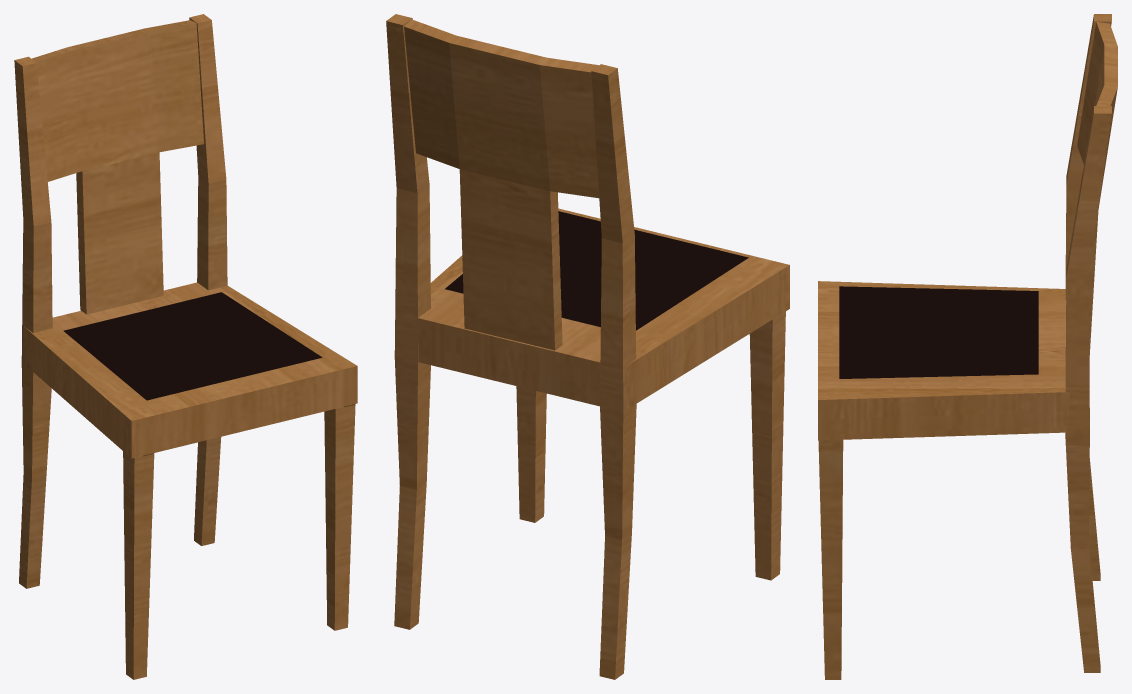
File: chair_00.obj
3 views of the same model, side by side, from view 1: azimuth 30°, elevation 25°; view 2: azimuth 150°, elevation 25°; view 3: azimuth 270°, elevation 25° (orthographic). The views are drawn at different scales.
Parts seen in each view (by area): view 1: Cube_Cube.001; view 2: Cube_Cube.001; view 3: Cube_Cube.001.
Part boxes in pixels (x1,y1,x2,y2): Cube_Cube.001: (14, 14, 357, 679); Cube_Cube.001: (386, 14, 789, 679); Cube_Cube.001: (818, 14, 1117, 679).
Size of the model in its own units: 0.41 by 0.9 by 0.4364.
